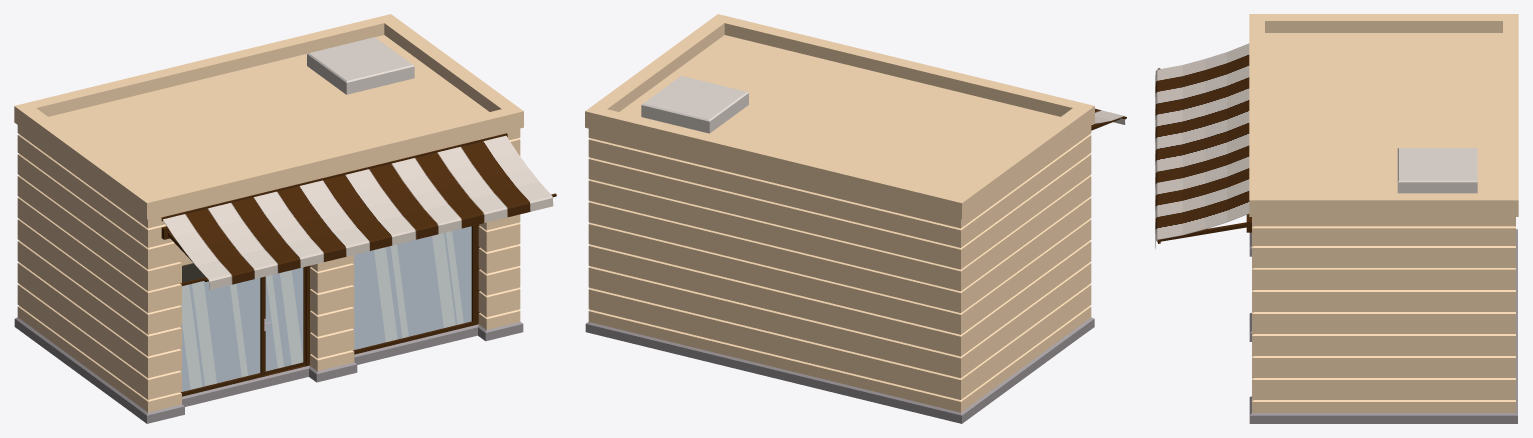
Rendered from CoffeeShop_LowPoly_01.fbx.
3 views of the same model, side by side, from view 1: azimuth 30°, elevation 25°; view 2: azimuth 150°, elevation 25°; view 3: azimuth 270°, elevation 25° (orthographic).
Parts seen in each view (by area): view 1: CoffeeShop_LowPoly_01; view 2: CoffeeShop_LowPoly_01; view 3: CoffeeShop_LowPoly_01.
Part boxes in pixels (box(x1,y1,x2,y2)): CoffeeShop_LowPoly_01: box(14, 14, 556, 423); CoffeeShop_LowPoly_01: box(585, 14, 1126, 423); CoffeeShop_LowPoly_01: box(1155, 14, 1518, 423).
Bounding box in the file's own units: 1670 × 941 × 1376.
